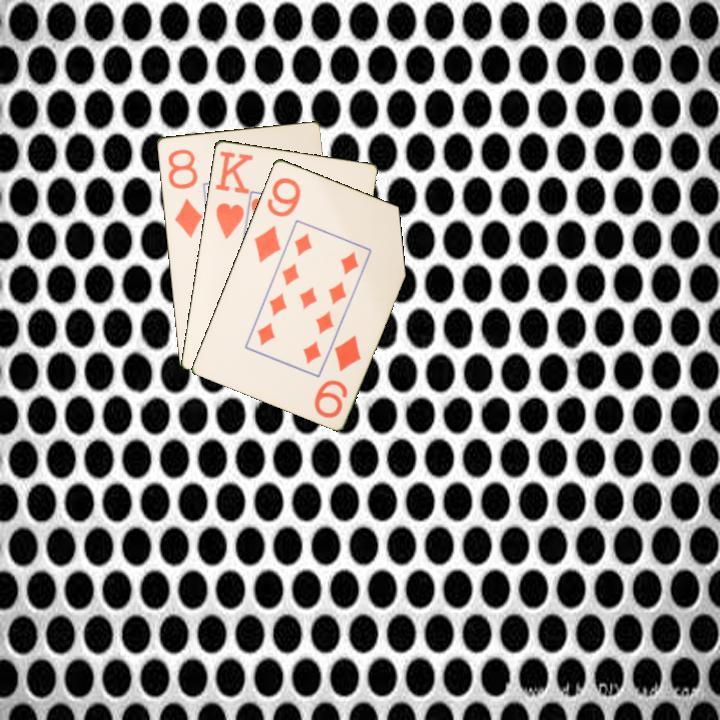8d: (164, 145, 205, 240)
9d: (250, 173, 304, 265), (310, 331, 364, 421)
Kh: (211, 147, 255, 241)
